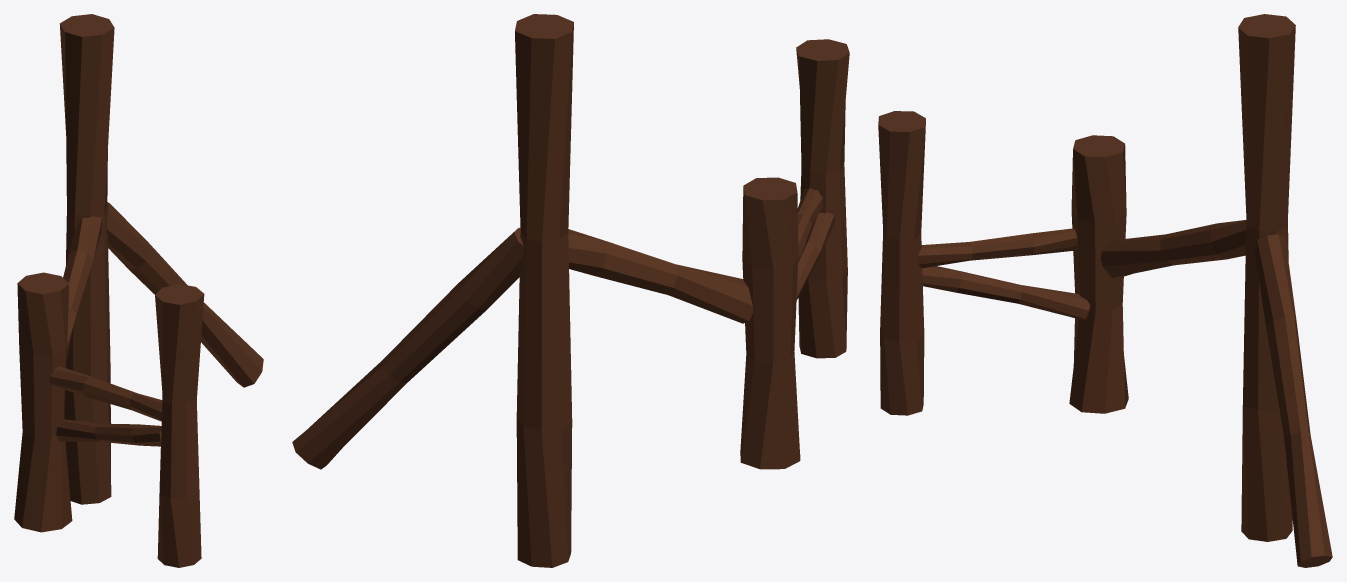
Rendered from Fence_3.fbx.
The picture shows the model from 3 angles, left to right: view 1: azimuth 30°, elevation 25°; view 2: azimuth 150°, elevation 25°; view 3: azimuth 270°, elevation 25°; orthographic projection. The views are drawn at different scales.
Visible parts, largest first — view 1: Fence_3; view 2: Fence_3; view 3: Fence_3.
Boxes of the visible parts, x1,y1,x2,y2 form: Fence_3: [14, 14, 263, 567]; Fence_3: [292, 14, 849, 567]; Fence_3: [878, 14, 1332, 567].
Size of the model in its own units: 549 by 585 by 717.
